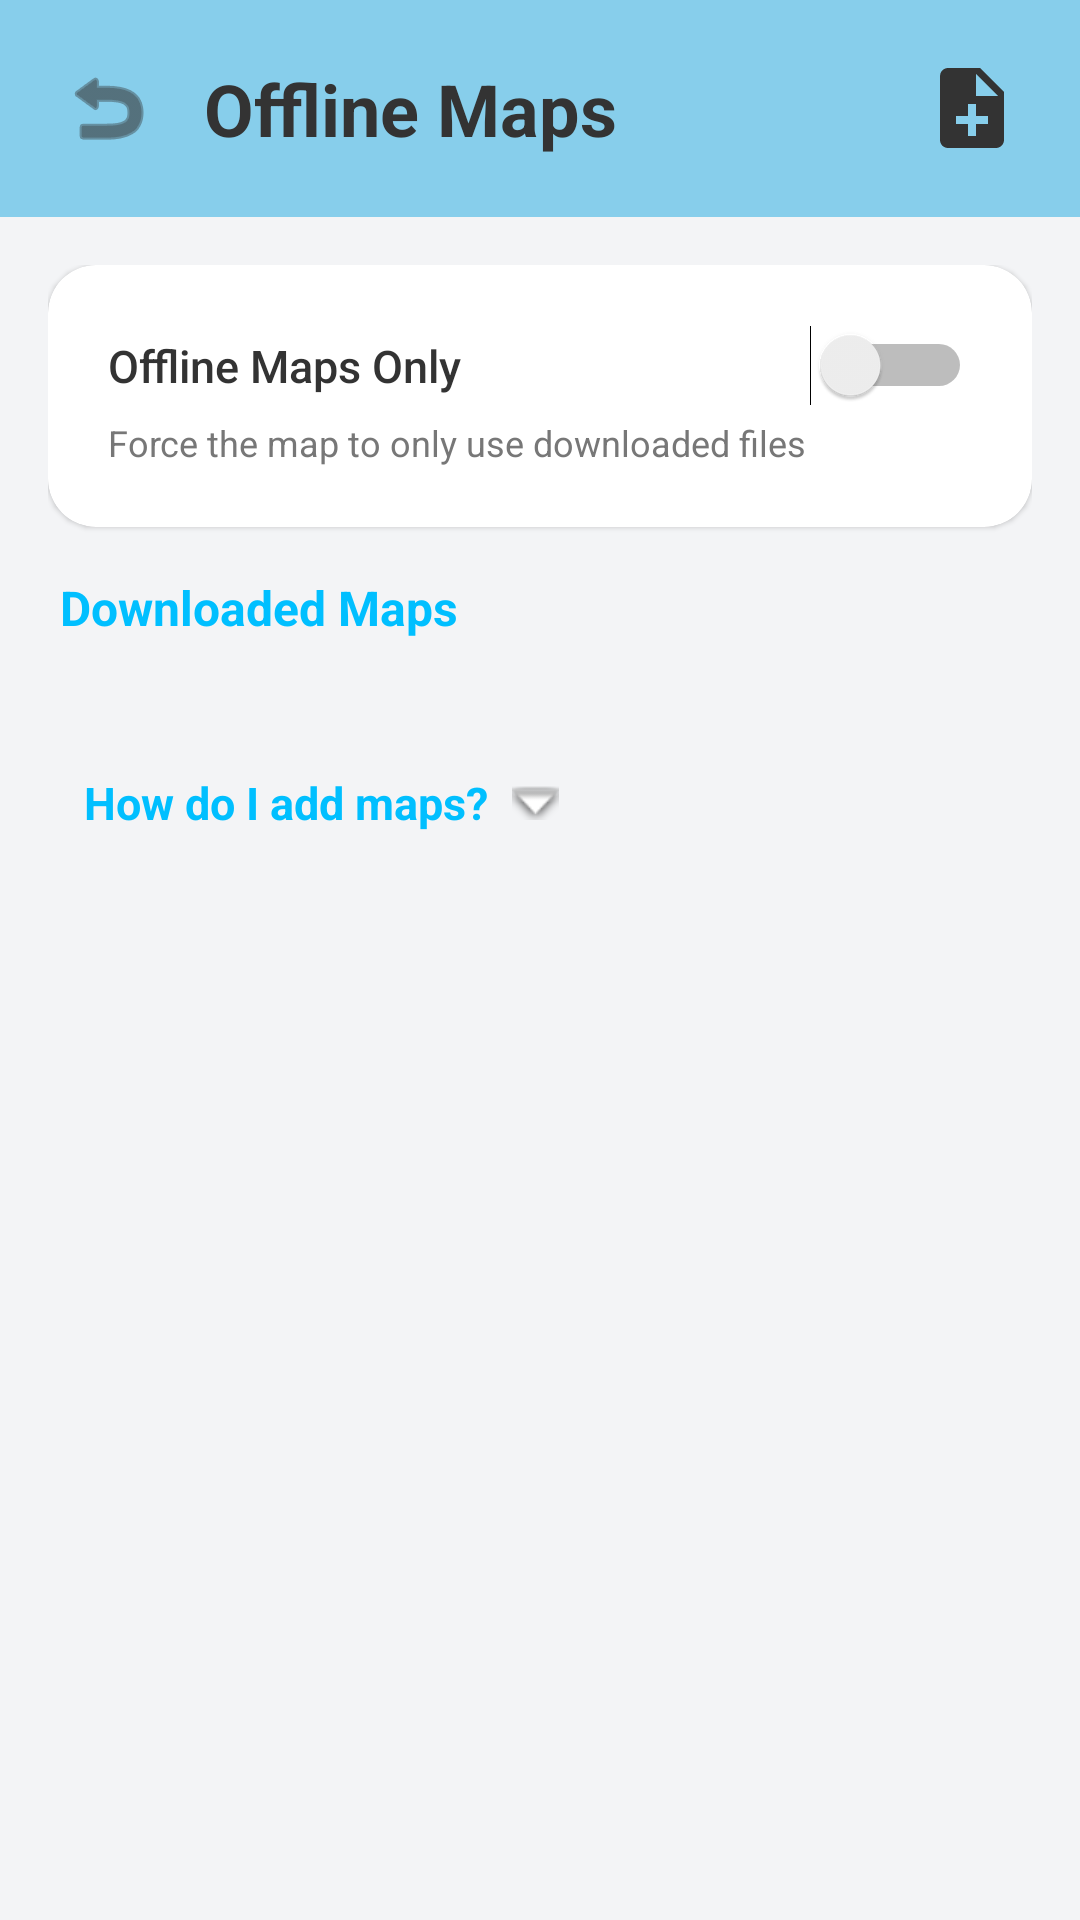

Icon click points for this 1080 x 1920 phone screenshot, format [x,y]:
Add Map File: [972,108]
Back: [109,108]
